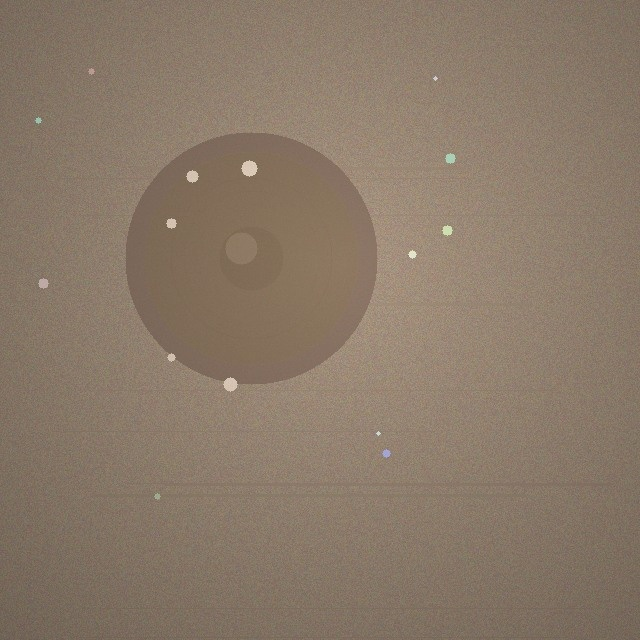overburn: (125, 132, 377, 384)
